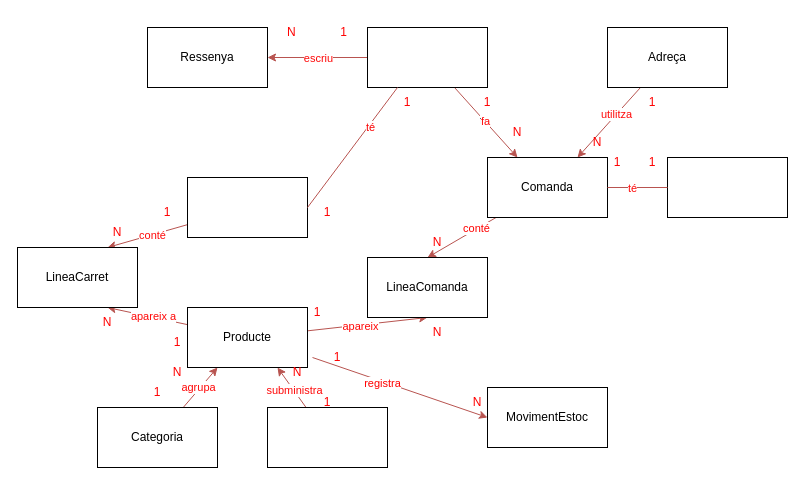
The diagram is 805 pixels wide and 485 high, and some of its shapes have lost their labels. Here are the shapes that lost their labels. From the top down, the centre of each, then its label:
[427,57]: Usuari
[247,207]: Carrito
[727,187]: Pagament
[327,437]: Proveidor
